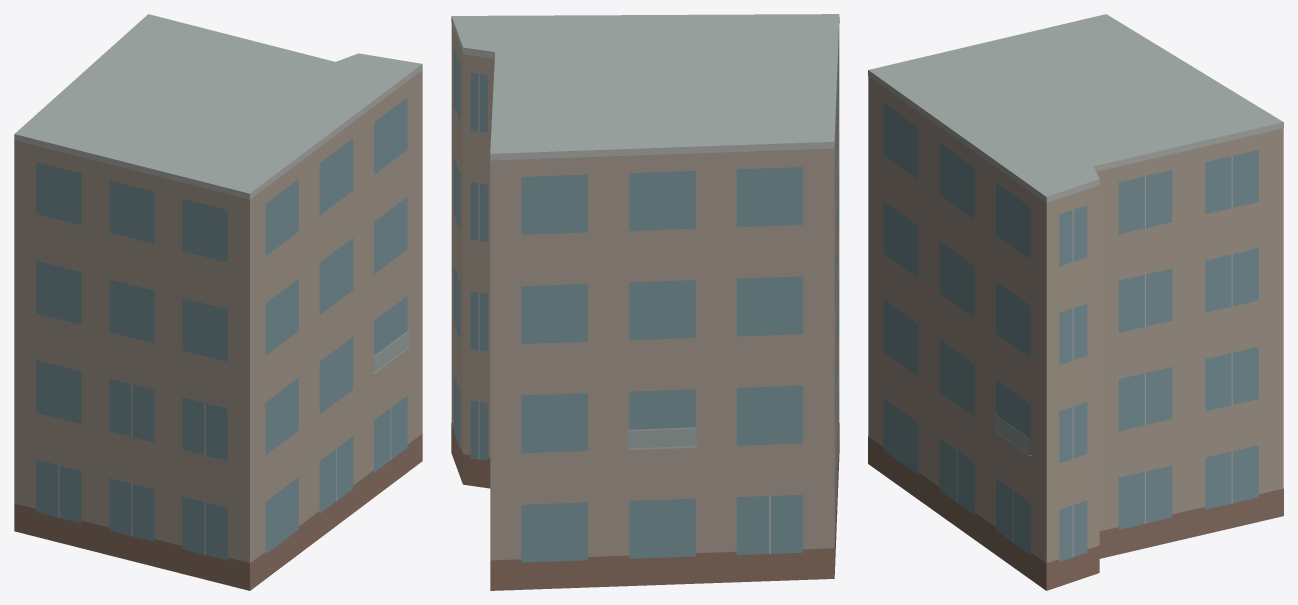
Rendered from survey-upis-32898944.glb.
3 renders of one model, left to right at view 1: azimuth 30°, elevation 25°; view 2: azimuth 150°, elevation 25°; view 3: azimuth 270°, elevation 25°, orthographic. The views are drawn at different scales.
Visible parts, largest first — view 1: survey-upis-32898944.tmp; view 2: survey-upis-32898944.tmp; view 3: survey-upis-32898944.tmp.
Part boxes in pixels (left/top/right/bottom): survey-upis-32898944.tmp: left=14, top=14, right=422, bottom=590; survey-upis-32898944.tmp: left=451, top=14, right=839, bottom=590; survey-upis-32898944.tmp: left=868, top=14, right=1283, bottom=590.
Size of the model in its own units: 15.85 by 15.9 by 15.21.
